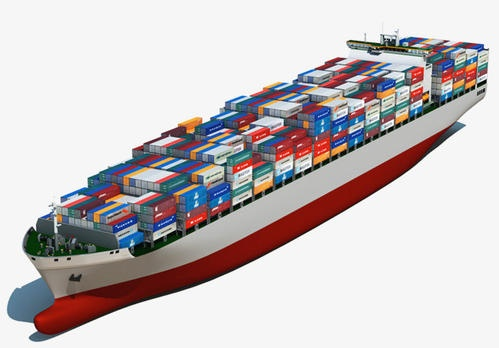Cargoship: (11, 23, 490, 314)
